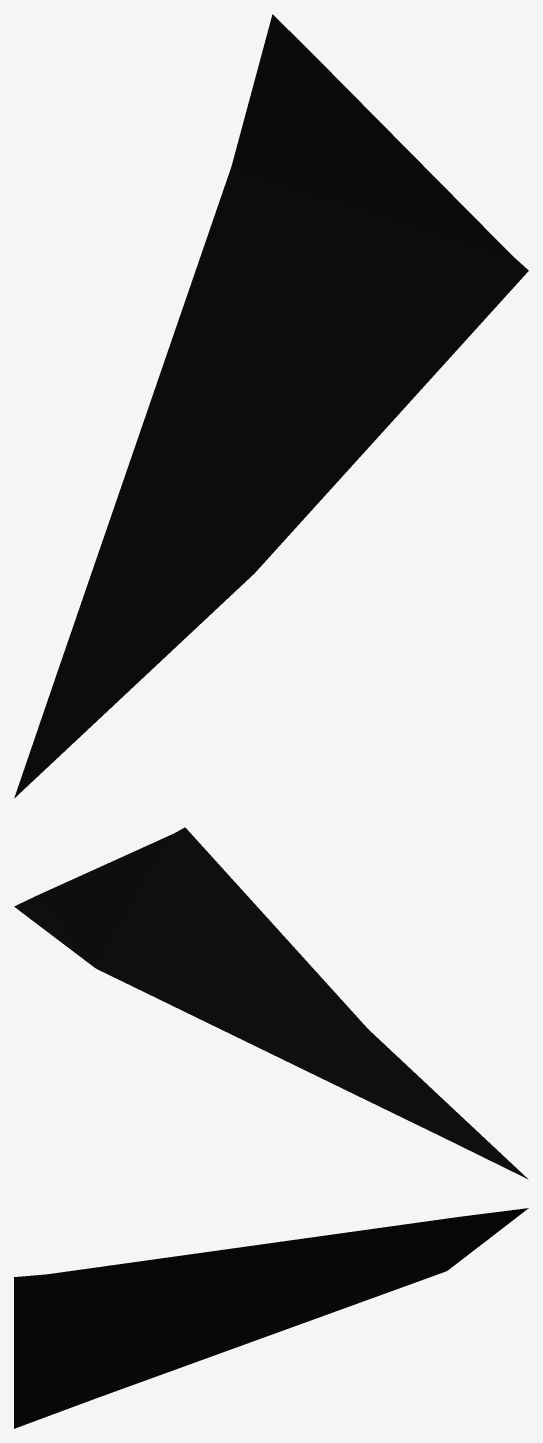
The picture shows the model from 3 angles, top to bottom: view 1: azimuth 30°, elevation 25°; view 2: azimuth 150°, elevation 25°; view 3: azimuth 270°, elevation 25°; orthographic projection. The views are drawn at different scales.
Bounding box in the file's own units: 7.4 × 6.48 × 6.39.
Materials: 1 (1 with a texture image).
